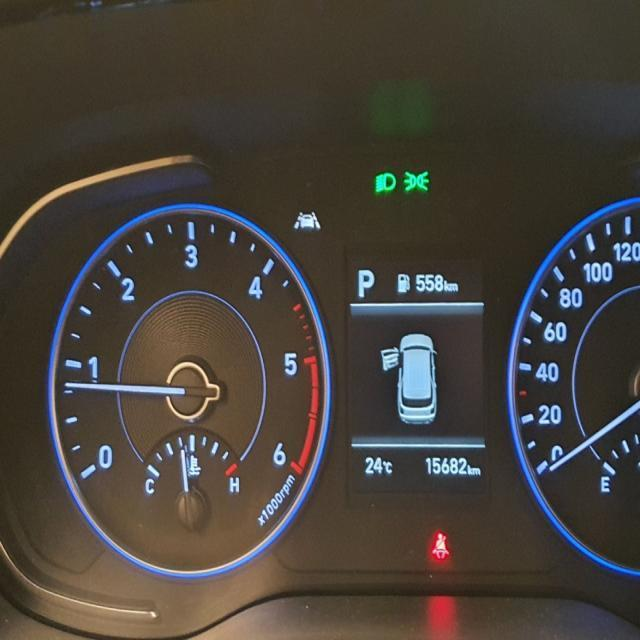LaneCenteringOff: (292, 210, 320, 230)
Low beam: (373, 170, 396, 194)
SideLamp: (402, 169, 430, 192)
